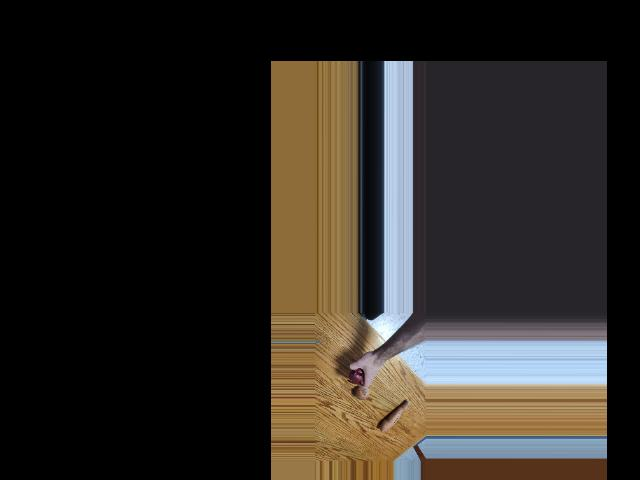onion: (354, 383, 369, 400)
